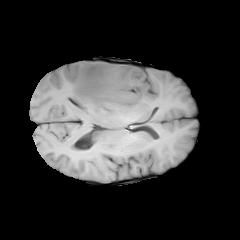glioma: (69, 61, 151, 118)
